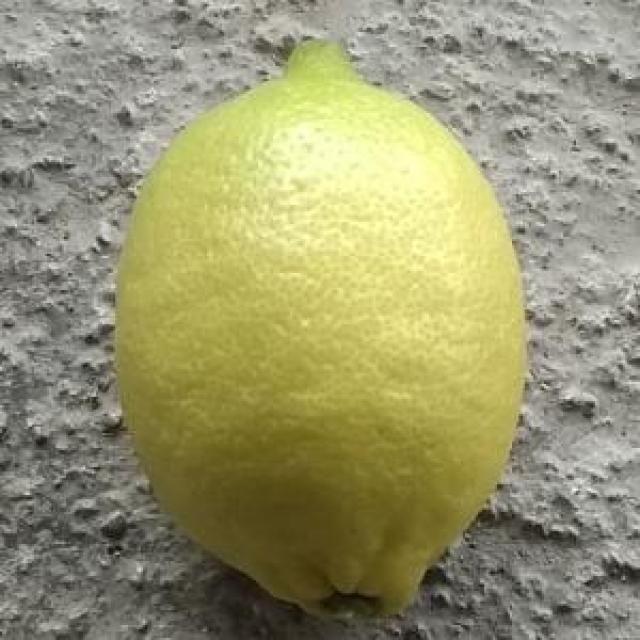lemon: (117, 40, 523, 614)
